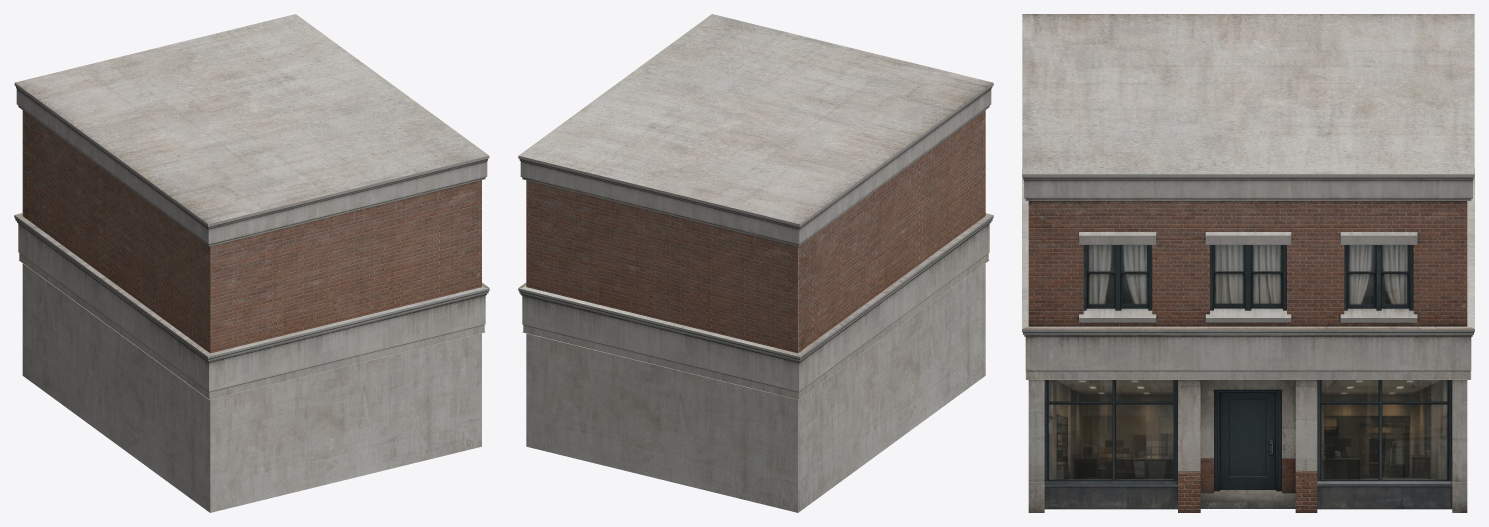
The model's file is dum_obchod.glb.
The picture shows the model from 3 angles, left to right: view 1: azimuth 30°, elevation 25°; view 2: azimuth 150°, elevation 25°; view 3: azimuth 270°, elevation 25°; orthographic projection. The views are drawn at different scales.
Visible parts, largest first — view 1: storefront 1; view 2: storefront 1; view 3: storefront 1.
Boxes of the visible parts, x1=… form: storefront 1: x1=14, y1=14, x2=489, y2=512; storefront 1: x1=518, y1=14, x2=993, y2=512; storefront 1: x1=1022, y1=14, x2=1474, y2=512.
Bounding box in the file's own units: 8.12 × 8 × 9.62.
Materials: 2 (2 with a texture image).
